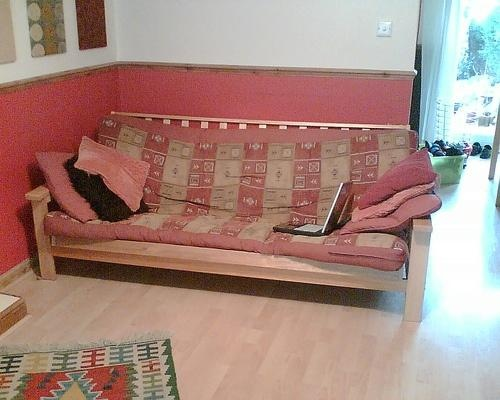sofa: (25, 110, 445, 325)
